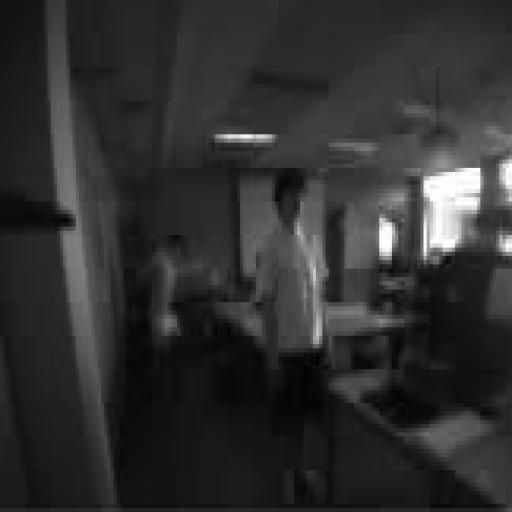human: (256, 168, 325, 503), (149, 236, 186, 369)
